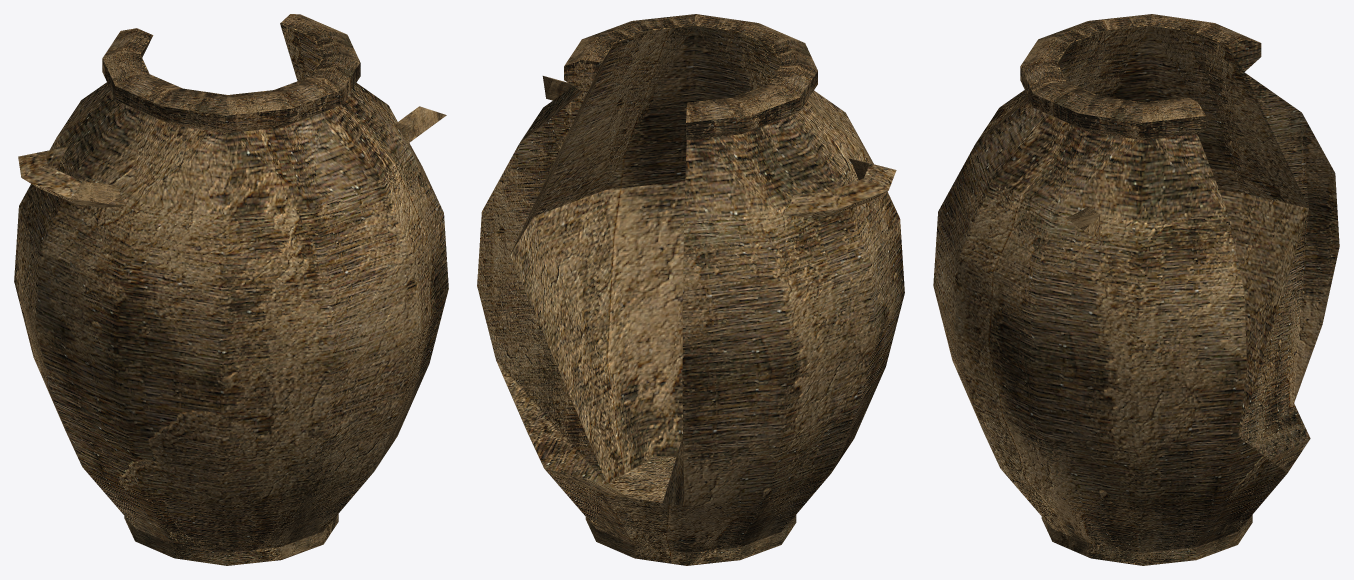
The model's file is desert_ruins_crock1.fbx.
3 views of the same model, side by side, from view 1: azimuth 30°, elevation 25°; view 2: azimuth 150°, elevation 25°; view 3: azimuth 270°, elevation 25° (orthographic).
Parts seen in each view (by area): view 1: Mesh; view 2: Mesh; view 3: Mesh.
Boxes of the visible parts, x1,y1,x2,y2 form: Mesh: (14,14,448,565); Mesh: (477,14,904,565); Mesh: (933,14,1339,565).
Bounding box in the file's own units: 120 × 135 × 108.
